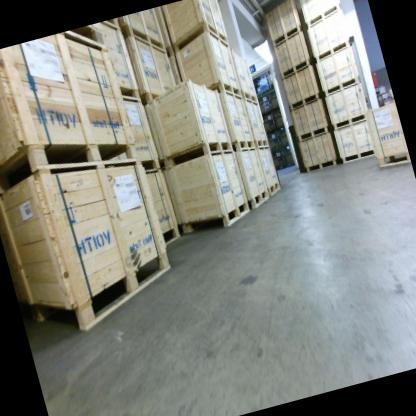pallet: (378, 93, 391, 103), (269, 83, 276, 90)
stillage: (256, 90, 274, 115), (275, 123, 291, 149), (282, 143, 297, 168), (265, 130, 282, 152), (260, 112, 277, 133), (270, 149, 286, 171), (266, 89, 280, 113), (272, 108, 286, 130)
